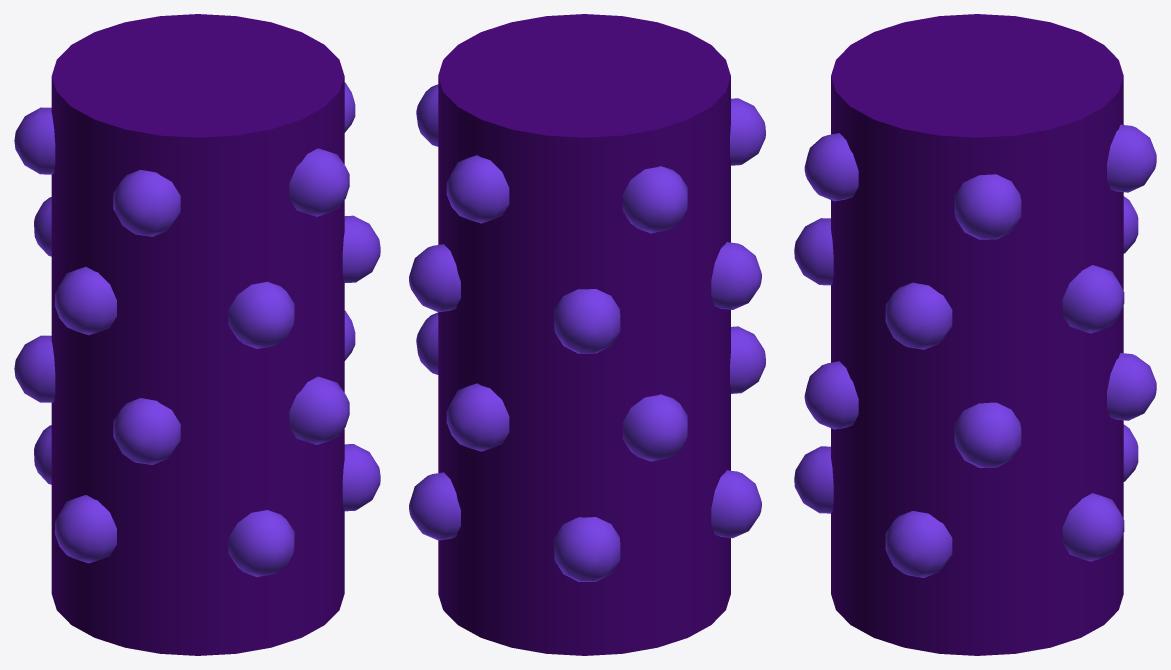
File: rolling_violet.fbx
3 renders of one model, left to right at view 1: azimuth 30°, elevation 25°; view 2: azimuth 150°, elevation 25°; view 3: azimuth 270°, elevation 25°, orthographic.
Parts seen in each view (by area): view 1: rolling_violet; view 2: rolling_violet; view 3: rolling_violet.
Part boxes in pixels (x1,y1,x2,y2): rolling_violet: [14, 14, 380, 655]; rolling_violet: [409, 14, 765, 655]; rolling_violet: [794, 14, 1156, 655].
Size of the model in its own units: 0.2035 by 0.3204 by 0.2031.
